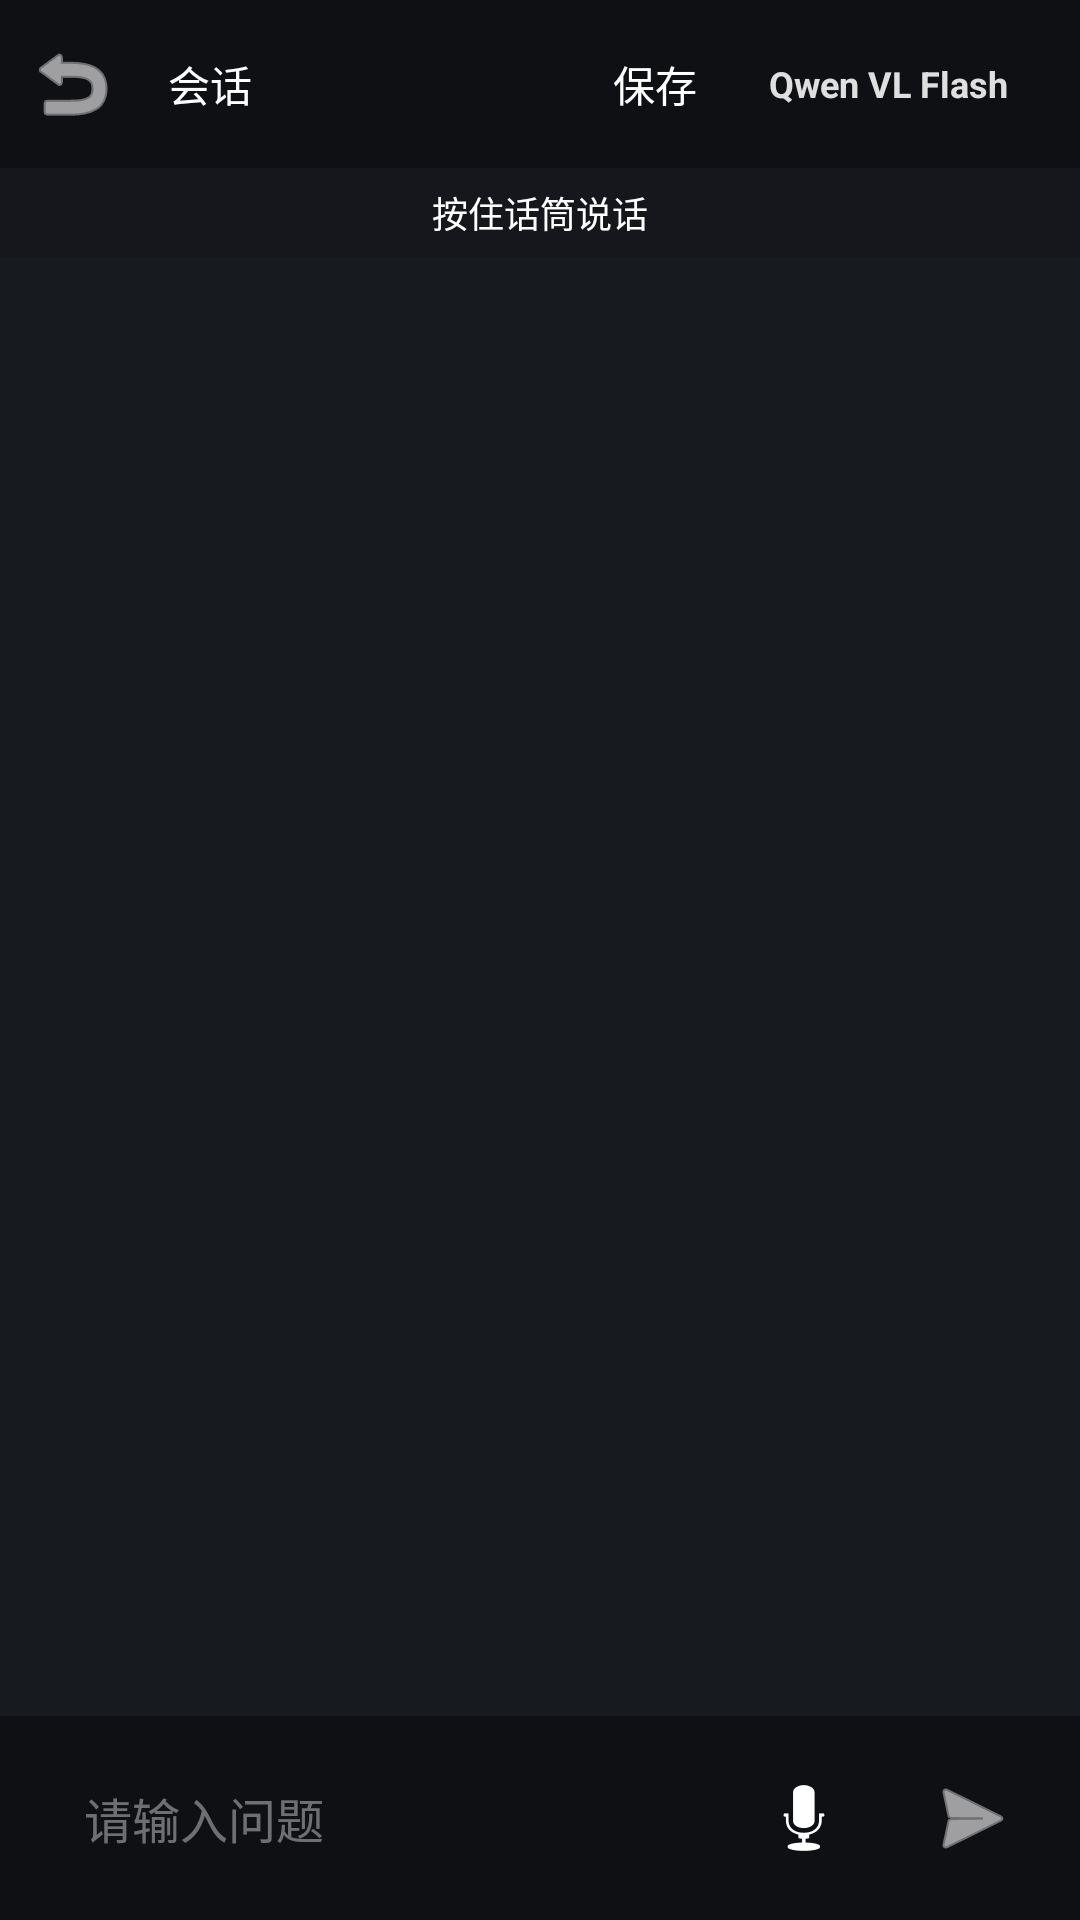

Point at icon controls on the screen. Image size 1080 x 1920, points as [x,y].
revert: [73,84]
send: [973,1818]
speak now: [804,1818]
